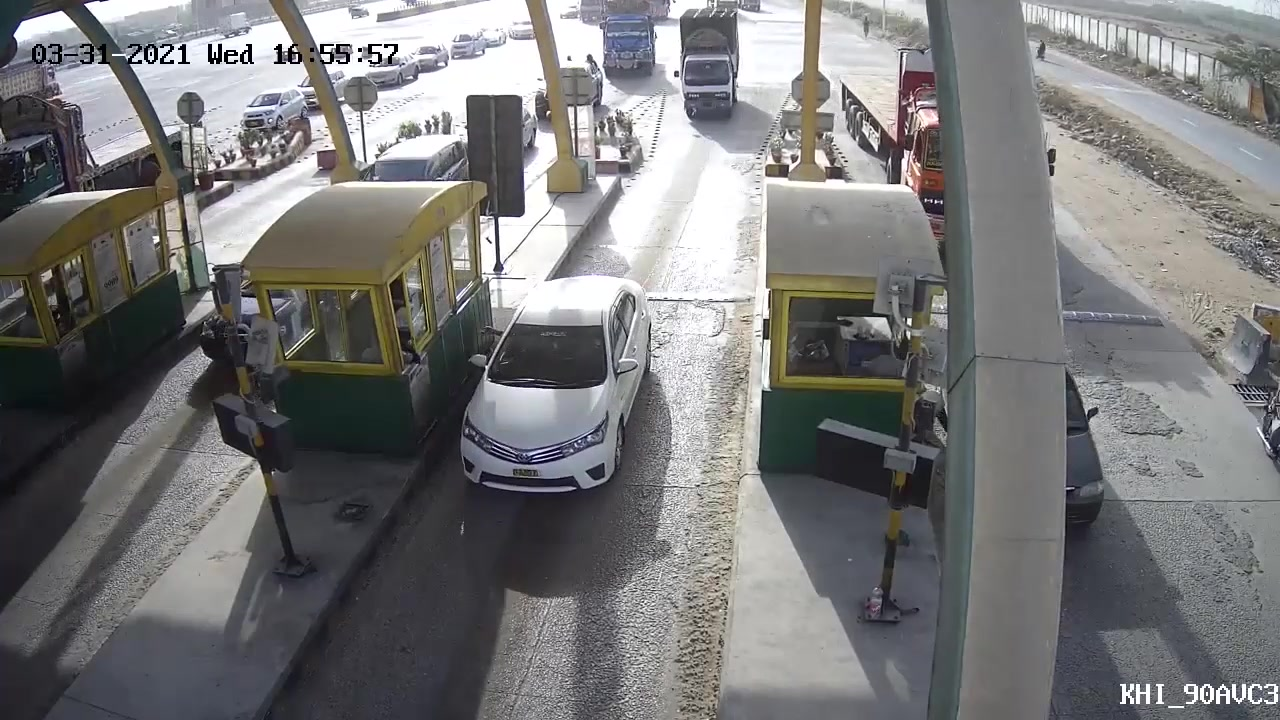F1: (460, 275, 655, 501)
